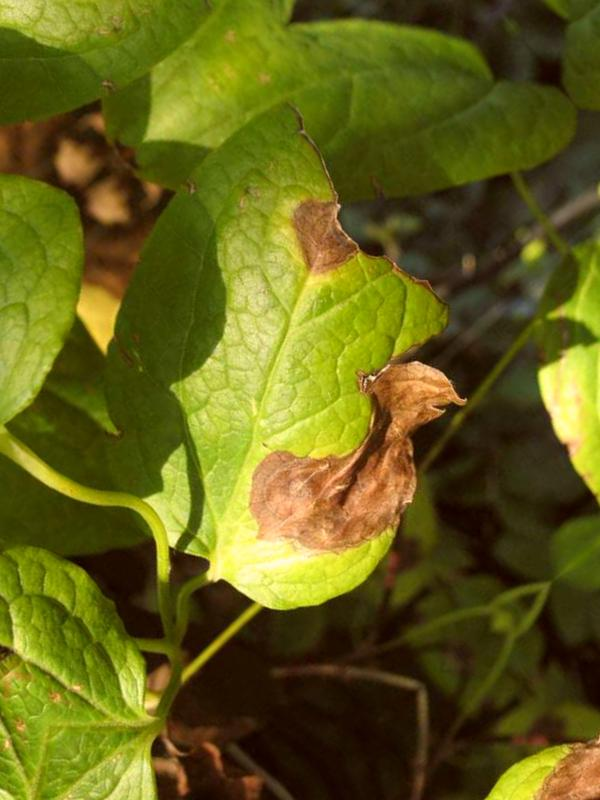Tomato leaf bacterial spot: (0, 89, 571, 684)
